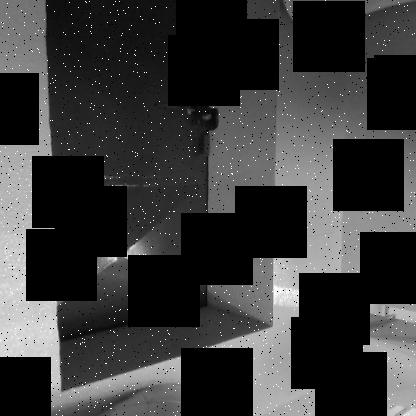Porte: (44, 0, 278, 392)
